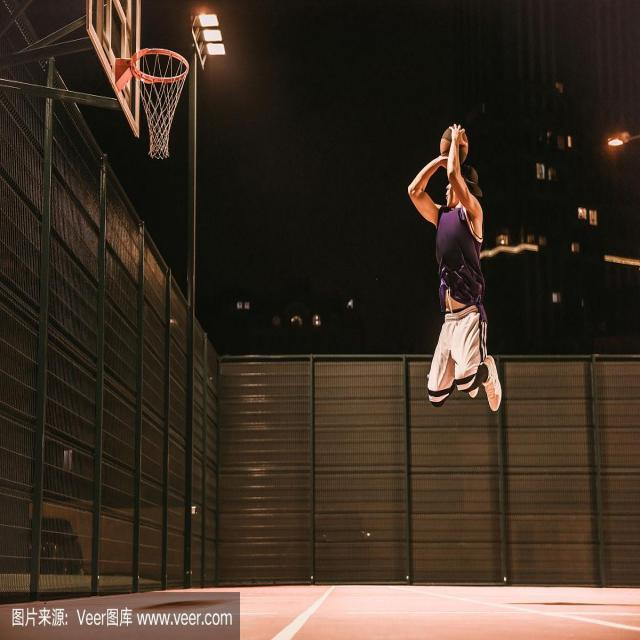rim: (440, 123, 470, 167)
